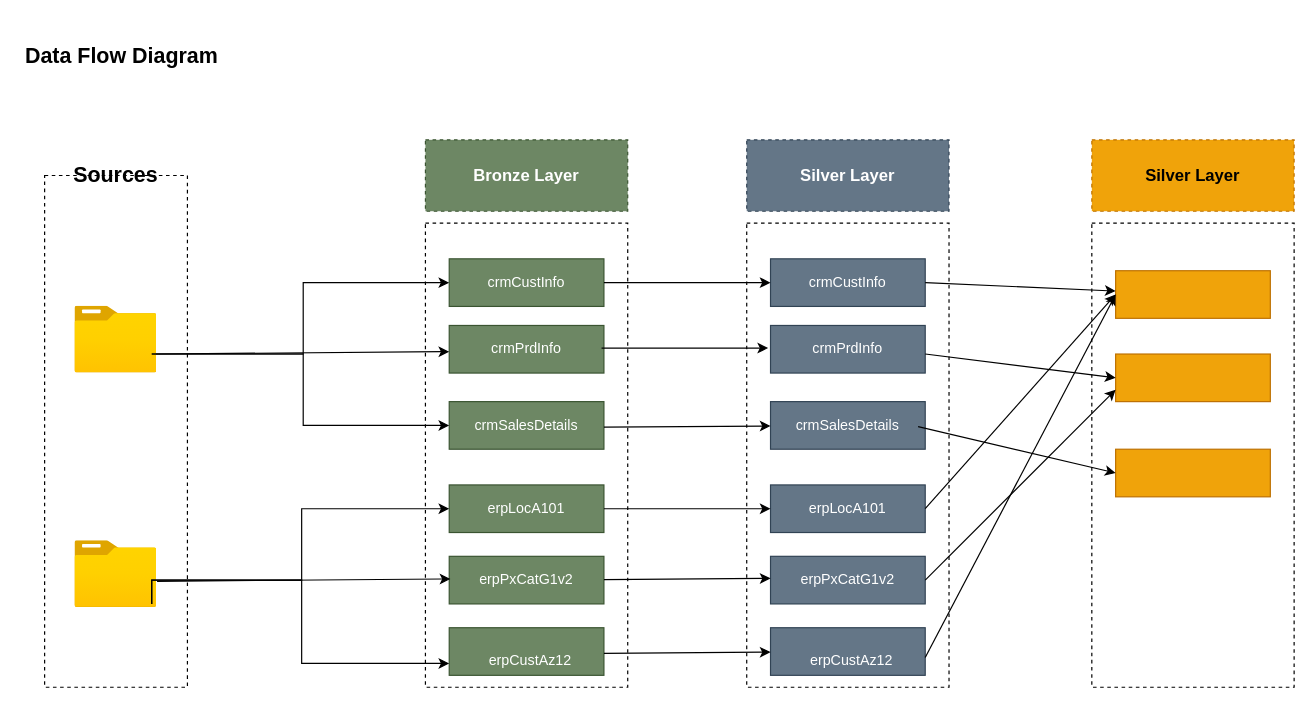
Some shapes in this 1315 by 708 pixel diagram are drawn without their labels. The centre of each missing label's shape, as x and y in pixels:
"CRM" goes at point (115, 339).
"dimCustomers" goes at point (1192, 294).
"dimProducts" goes at point (1192, 377).
"ERP" goes at point (115, 573).
"factSales" goes at point (1192, 472).
